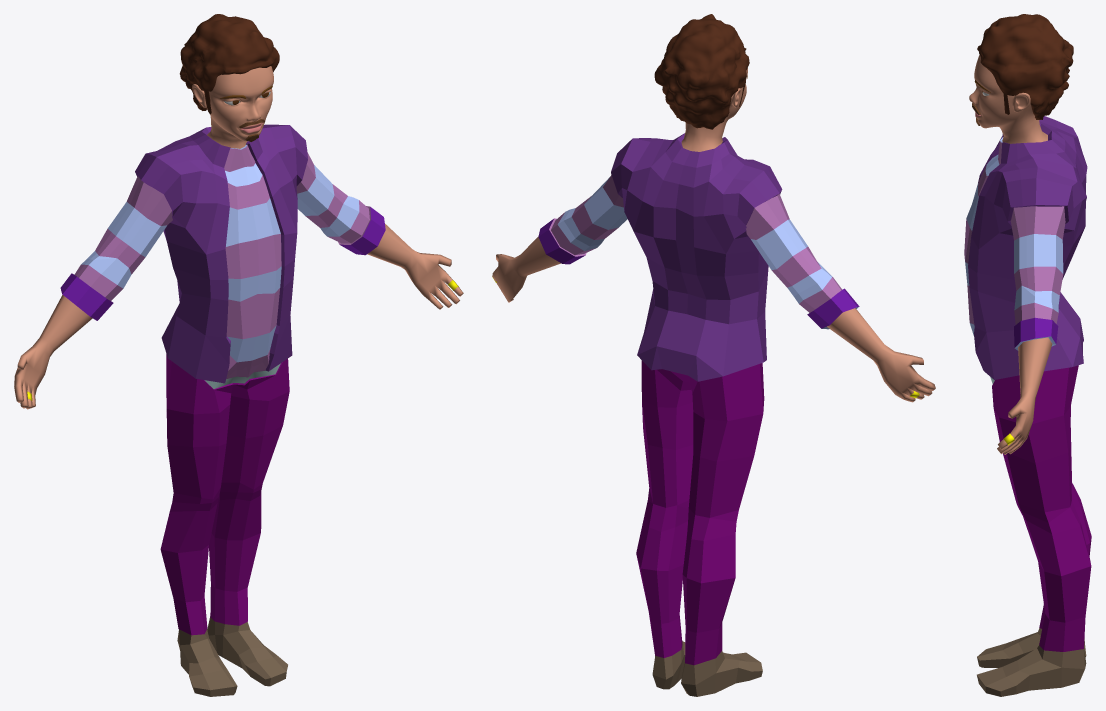
File: NPC 80S.fbx
3 views of the same model, side by side, from view 1: azimuth 30°, elevation 25°; view 2: azimuth 150°, elevation 25°; view 3: azimuth 270°, elevation 25° (orthographic).
Visible parts, largest first — view 1: Male_Character.003, Male_Character.002, Male_Character.001, Male_Character, Male_Character.006, Cubo; view 2: Male_Character.001, Male_Character.003, Male_Character.002, Cubo, Male_Character, Male_Character.006; view 3: Male_Character.001, Male_Character.003, Male_Character.002, Cubo, Male_Character, Male_Character.006.
Part boxes in pixels (left/top/right/bottom): Male_Character.003: left=160, top=354, right=289, bottom=635; Male_Character.002: left=60, top=144, right=385, bottom=378; Male_Character.001: left=135, top=124, right=307, bottom=383; Male_Character: left=14, top=66, right=463, bottom=409; Male_Character.006: left=177, top=616, right=287, bottom=696; Cubo: left=179, top=14, right=279, bottom=114; Male_Character.001: left=611, top=133, right=782, bottom=381; Male_Character.003: left=636, top=360, right=764, bottom=665; Male_Character.002: left=538, top=175, right=859, bottom=329; Cubo: left=654, top=14, right=749, bottom=129; Male_Character: left=492, top=68, right=935, bottom=402; Male_Character.006: left=652, top=641, right=762, bottom=696; Male_Character.001: left=968, top=116, right=1087, bottom=379; Male_Character.003: left=992, top=365, right=1091, bottom=651; Male_Character.002: left=964, top=137, right=1065, bottom=350; Cubo: left=977, top=14, right=1073, bottom=119; Male_Character: left=969, top=55, right=1052, bottom=454; Male_Character.006: left=977, top=628, right=1086, bottom=696.
Size of the model in its own units: 853 by 1199 by 211.
